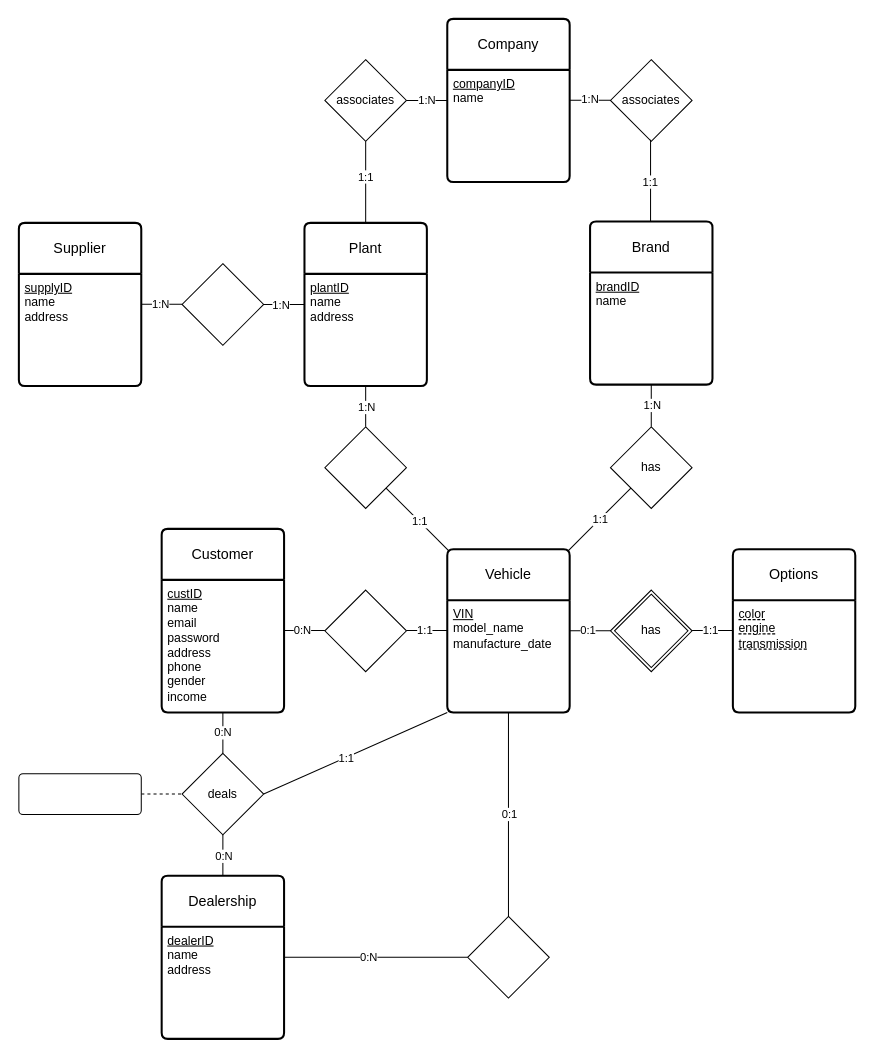
Image size: 873x1057. Some labels were removed from this diagram. The centre of each missing label's shape, as x and y in pixels:
date_of_transaction: point (79, 793)
makes: point (365, 467)
owns: point (365, 630)
provides: point (222, 304)
stocks: point (508, 956)
